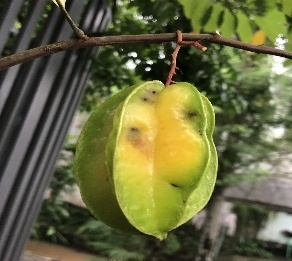Khe: (71, 76, 220, 244)
